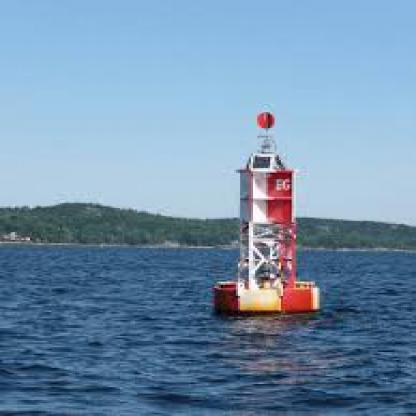buoy: (204, 106, 332, 318), (193, 276, 335, 318)
